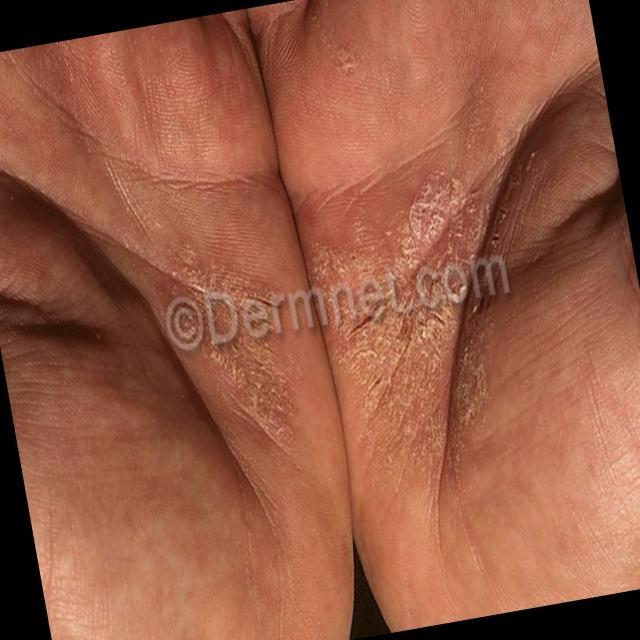Eczema: (178, 179, 495, 499)
